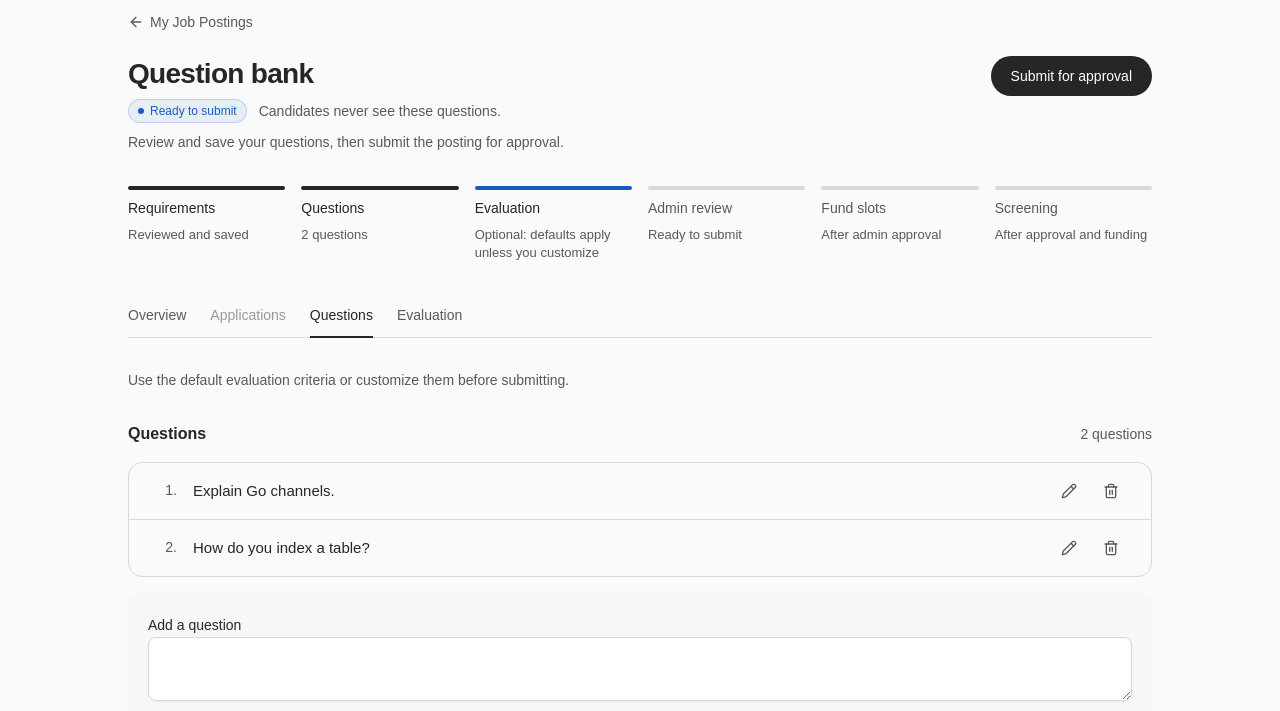
Test case: QuestionBank › shows the backend conflict when a used question can't be deleted
Click the button named "Delete question 2" at (1111, 548), box [1091, 528, 1131, 568]
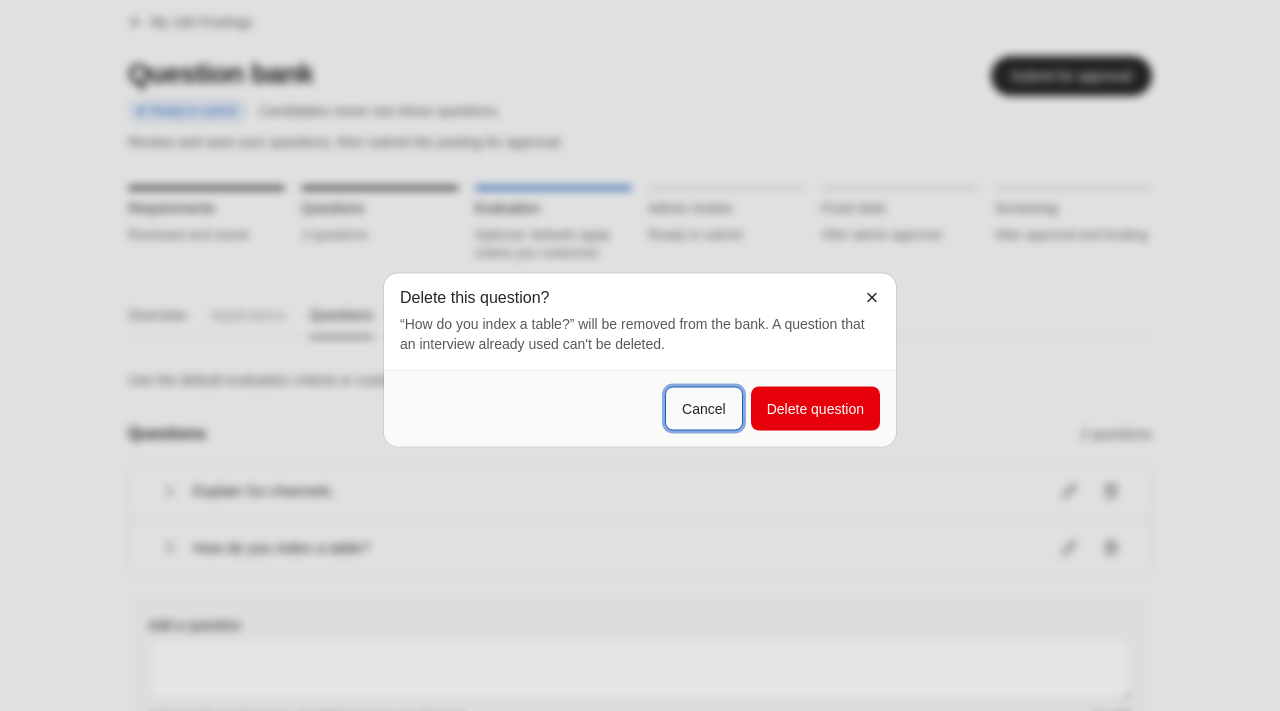
Click the button "Delete question" at (815, 408), box [751, 386, 880, 430]
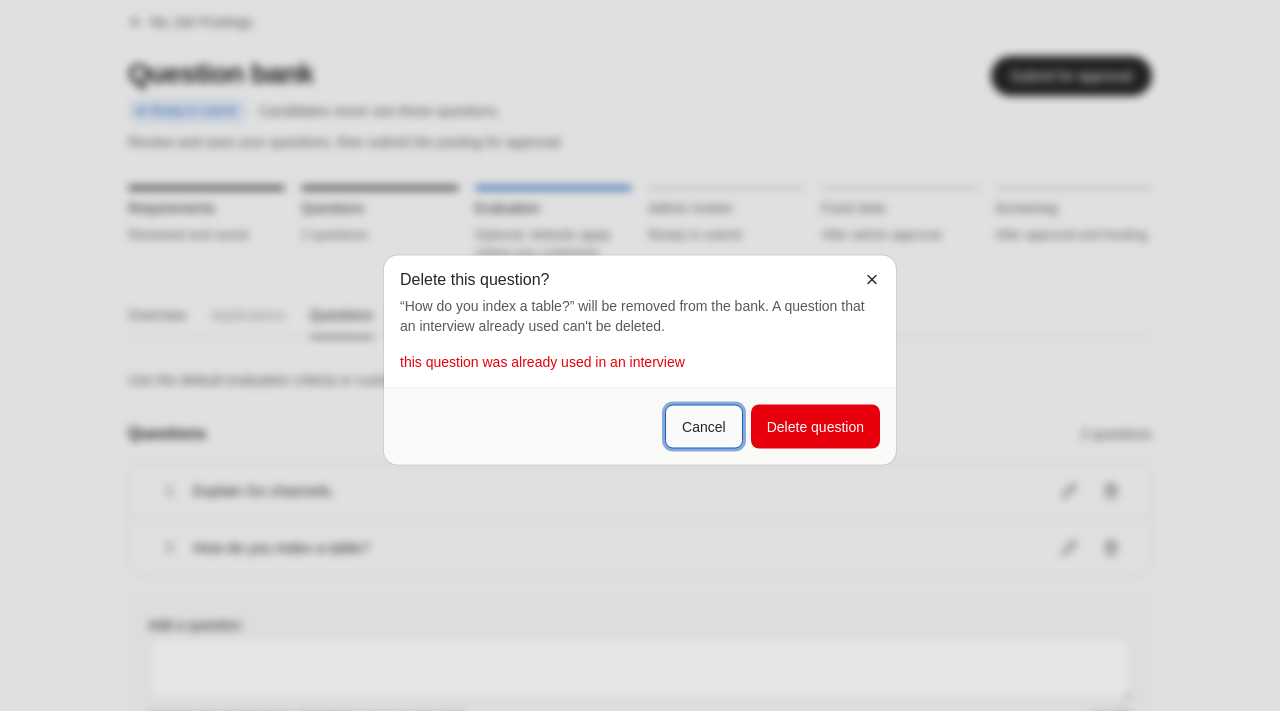
Check: the text "How do you index a table?" is shown, box [193, 539, 370, 556]
Check: the message shows "already used in an interview", box [400, 354, 685, 370]
